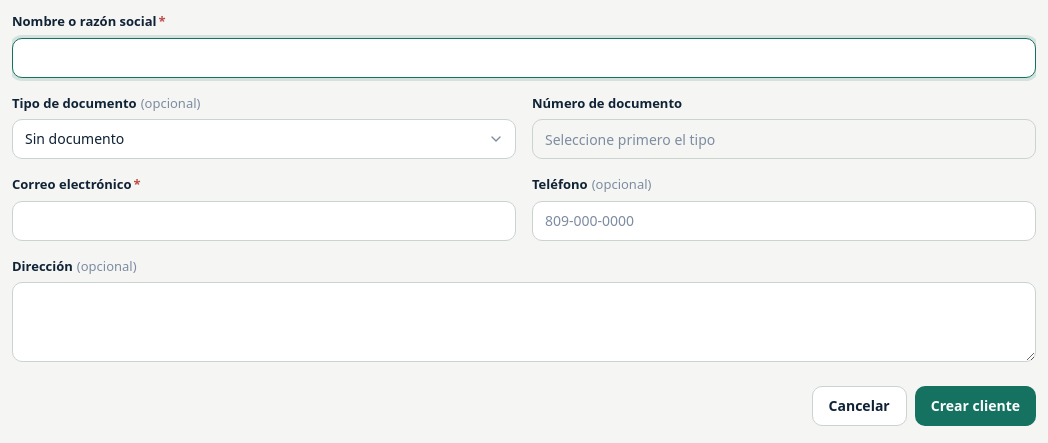
it: ClientForm › keeps the number disabled until a document type is chosen
Expected: the field labelled "Número de documento" is disabled, [532, 119, 1036, 159]
Select "Cédula" in the dropdown labelled "Tipo de documento(opcional)": (264, 139) [12, 119, 516, 159]
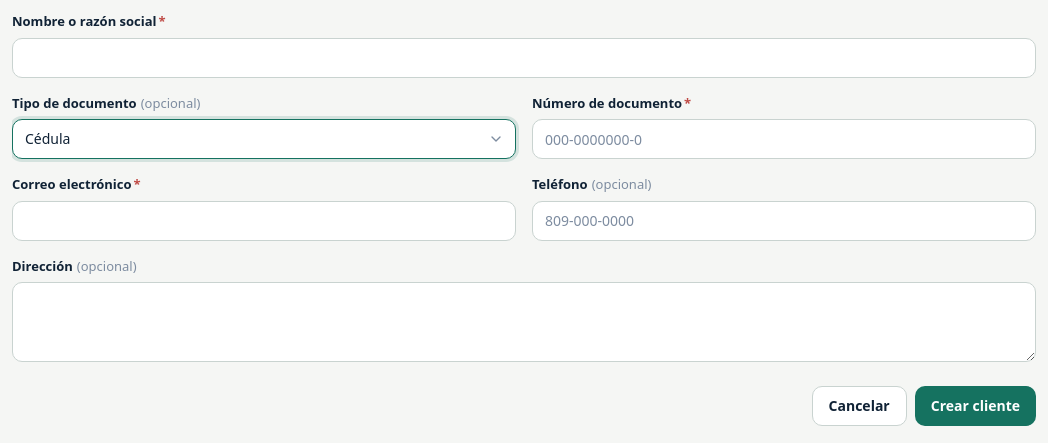
Expected: the field labelled "Número de documento*" is enabled, [532, 119, 1036, 159]
